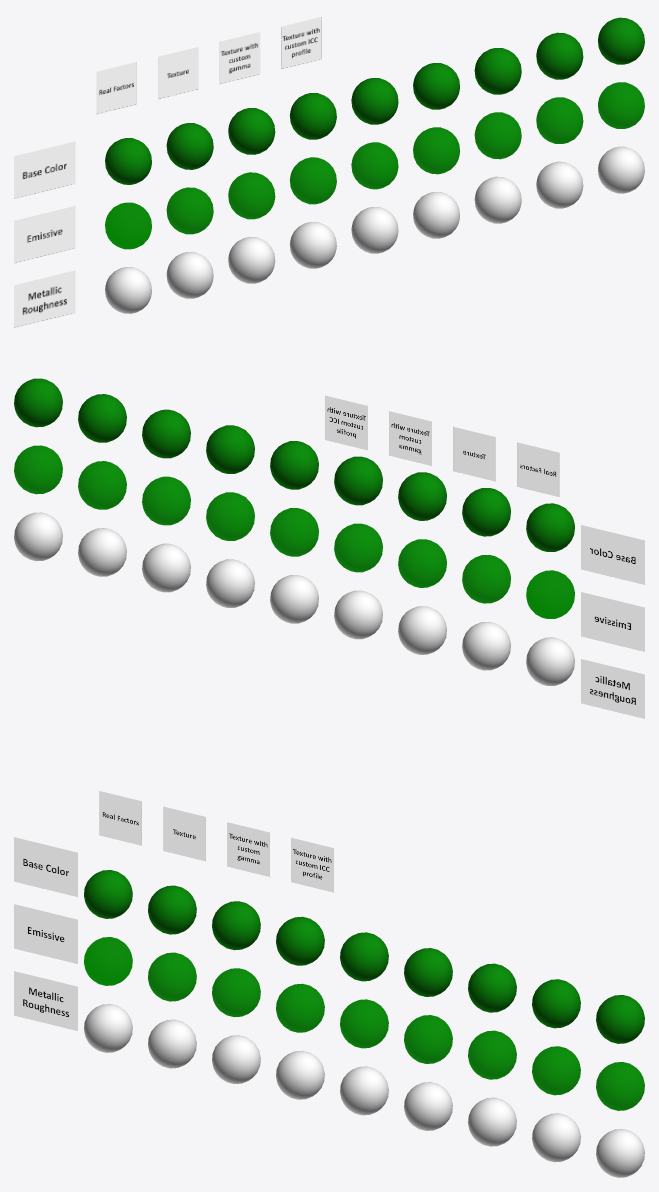
The model's file is TextureEncodingTest.gltf.
3 renders of one model, top to bottom at view 1: azimuth 30°, elevation 25°; view 2: azimuth 150°, elevation 25°; view 3: azimuth 330°, elevation 25°, orthographic. The views are drawn at different scales.
Size of the model in its own units: 30 by 12 by 2.
29 materials, 18 textured.
